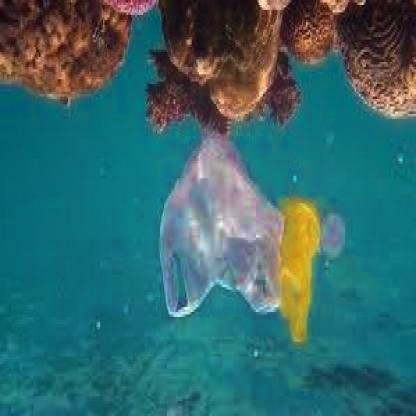pbag: (149, 124, 289, 337), (275, 193, 323, 352)
